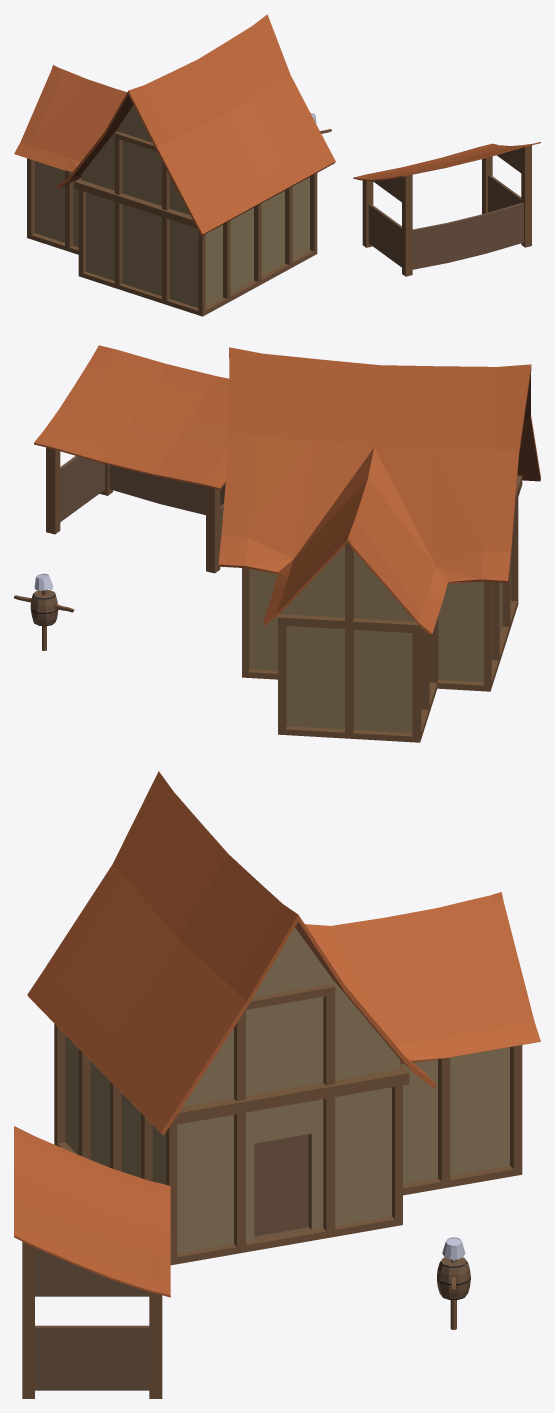
File: baracks.fbx
The picture shows the model from 3 angles, top to bottom: view 1: azimuth 30°, elevation 25°; view 2: azimuth 150°, elevation 25°; view 3: azimuth 270°, elevation 25°; orthographic projection. The views are drawn at different scales.
Parts seen in each view (by area): view 1: house, barn; view 2: house, barn, target; view 3: house, barn, target.
Part boxes in pixels (<box>): house: <box>14,14,335,316</box>; barn: <box>353,142,540,276</box>; house: <box>218,347,540,742</box>; barn: <box>34,345,229,573</box>; target: <box>14,573,74,650</box>; house: <box>27,771,540,1265</box>; barn: <box>14,1126,170,1398</box>; target: <box>437,1237,470,1329</box>.
Bounding box in the file's own units: 11.59 × 5.96 × 8.29.
3 materials, 3 textured.
